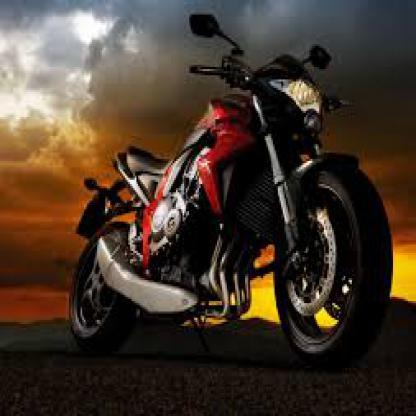Motorcycle: (47, 11, 397, 369)
